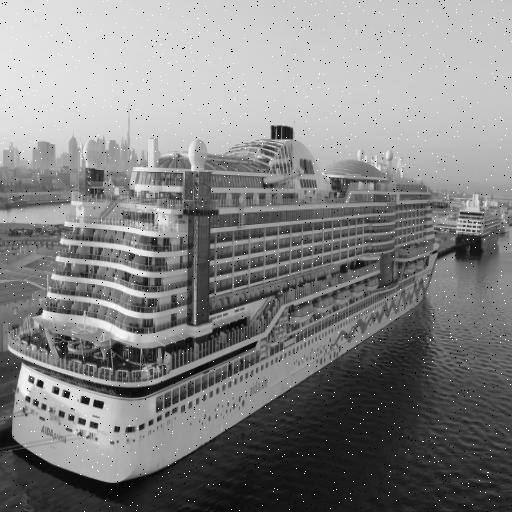cruises: (9, 113, 445, 490), (454, 183, 506, 262)
